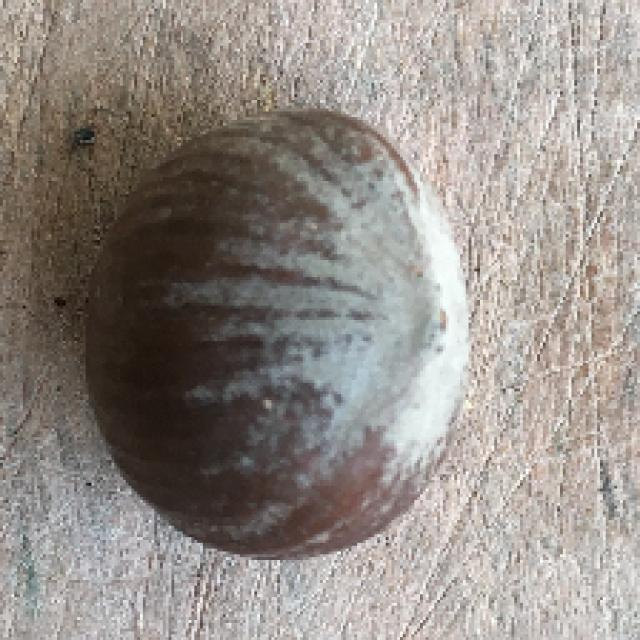damagedHazelnut: (86, 97, 470, 559)
